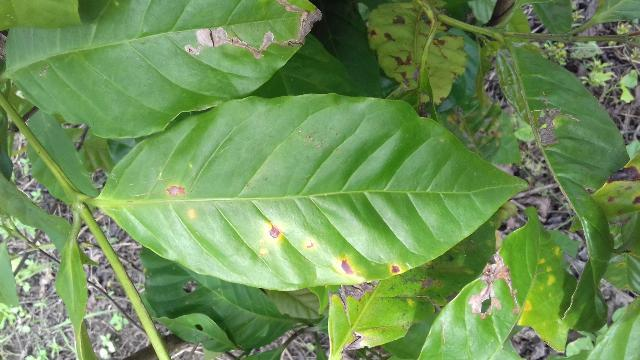rust_level_1: (80, 90, 542, 296)
